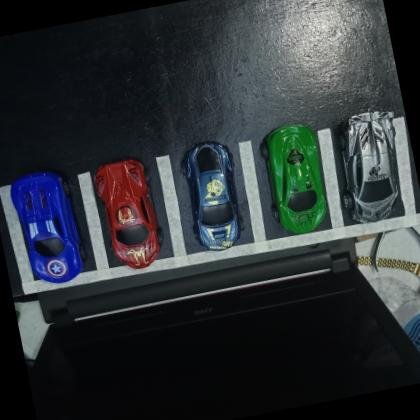Car: (330, 108, 414, 229), (7, 167, 87, 289), (90, 154, 167, 275), (258, 120, 334, 240), (177, 138, 250, 256)
